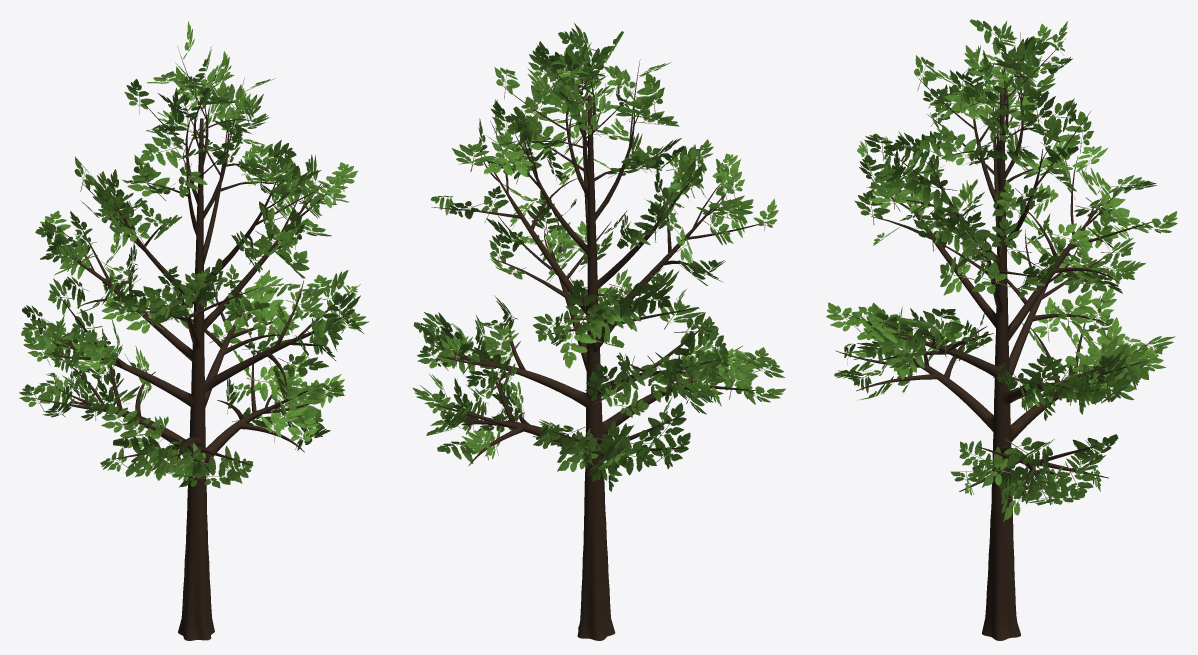
File: Tree 1.fbx
The picture shows the model from 3 angles, left to right: view 1: azimuth 30°, elevation 25°; view 2: azimuth 150°, elevation 25°; view 3: azimuth 270°, elevation 25°; orthographic projection. The views are drawn at different scales.
Parts seen in each view (by area): view 1: Tree_1, Tree_0; view 2: Tree_1, Tree_0; view 3: Tree_1, Tree_0.
Boxes of the visible parts, x1,y1,x2,y2 form: Tree_1: [19, 21, 369, 488]; Tree_0: [33, 46, 360, 640]; Tree_1: [412, 23, 785, 491]; Tree_0: [426, 52, 775, 640]; Tree_1: [826, 19, 1177, 521]; Tree_0: [835, 32, 1151, 640].
Size of the model in its own units: 253 by 460 by 240.
